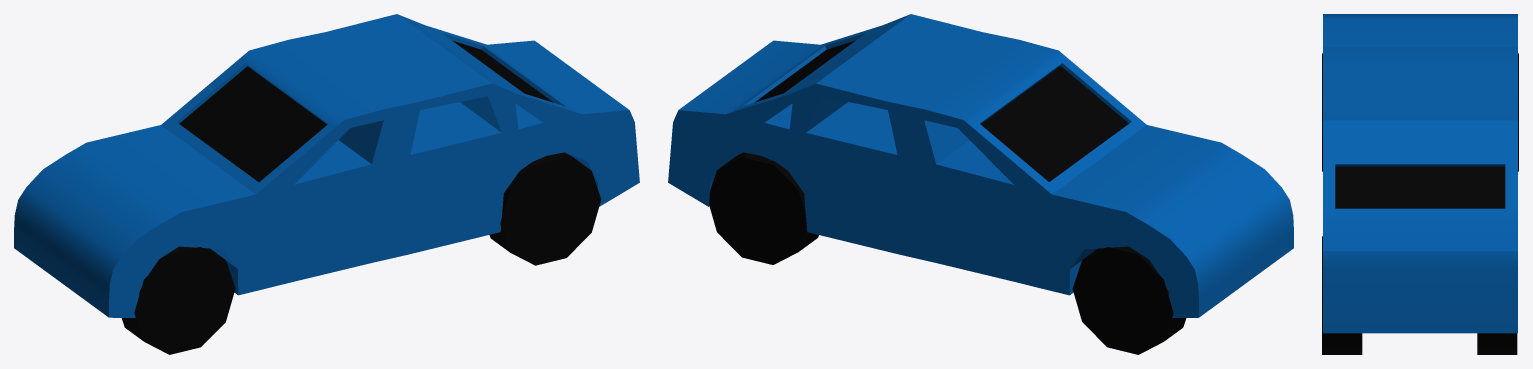
File: kuruma1.fbx
3 renders of one model, left to right at view 1: azimuth 30°, elevation 25°; view 2: azimuth 150°, elevation 25°; view 3: azimuth 270°, elevation 25°, orthographic. The views are drawn at different scales.
Parts seen in each view (by area): view 1: pCylinder5; view 2: pCylinder5; view 3: pCylinder5.
Boxes of the visible parts, x1,y1,x2,y2 form: pCylinder5: (14, 14, 639, 354); pCylinder5: (668, 14, 1293, 354); pCylinder5: (1322, 14, 1518, 354).
Size of the model in its own units: 10.54 by 3.66 by 3.3.
